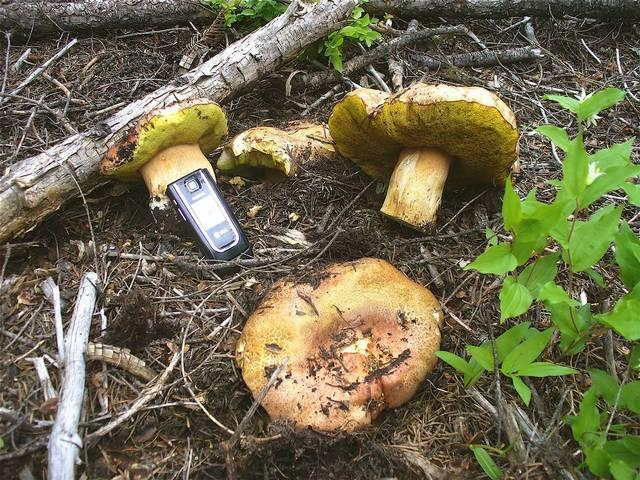edible_mushroom: (234, 256, 443, 434), (327, 81, 519, 232), (97, 97, 242, 193)
